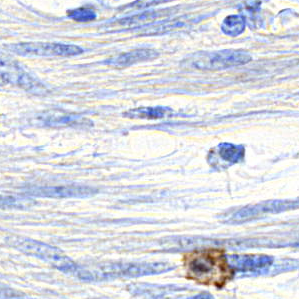Lymphocyte: (183, 246, 236, 289)
